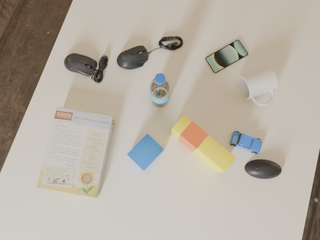bottle: (150, 73, 170, 107)
box: (37, 107, 114, 198), (171, 115, 236, 172), (127, 134, 164, 171)
cup: (238, 66, 277, 106)
mouse: (64, 53, 108, 83), (245, 159, 282, 179), (117, 46, 149, 69)
phone: (205, 40, 248, 74)
toy_car: (230, 131, 263, 154)
